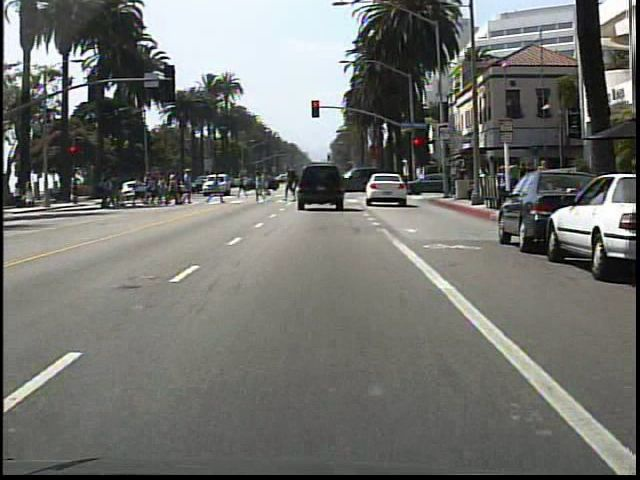person: (493, 161, 510, 209), (231, 170, 250, 205)
